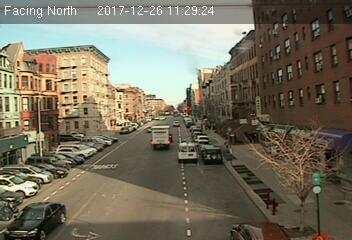car: (4, 203, 64, 240), (201, 146, 222, 161)
truck: (175, 140, 197, 162), (151, 126, 170, 148)
